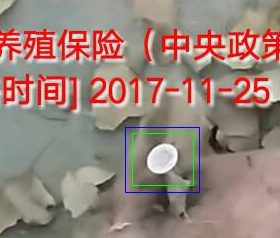text: (132, 133, 193, 185)
